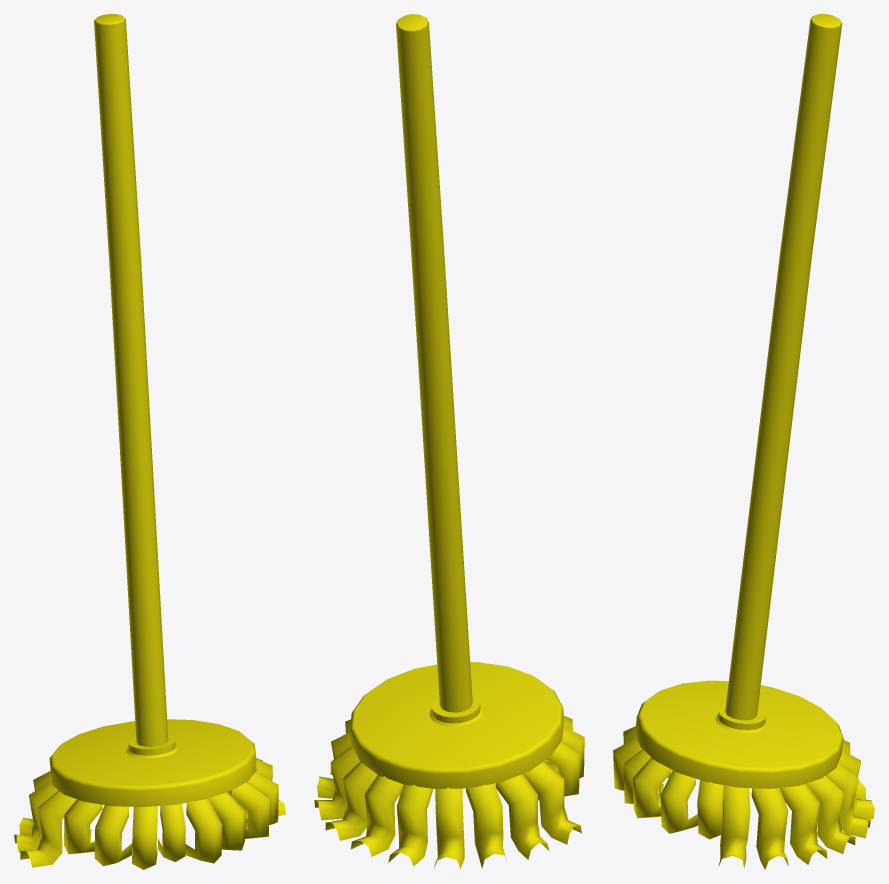
The model's file is mop.fbx.
The picture shows the model from 3 angles, left to right: view 1: azimuth 30°, elevation 25°; view 2: azimuth 150°, elevation 25°; view 3: azimuth 270°, elevation 25°; orthographic projection. The views are drawn at different scales.
Visible parts, largest first — view 1: mop; view 2: mop; view 3: mop.
Part boxes in pixels (left/top/right/bottom): mop: left=14, top=14, right=285, bottom=869; mop: left=314, top=14, right=584, bottom=868; mop: left=613, top=14, right=874, bottom=869.
Size of the model in its own units: 46.56 by 145 by 43.08.
